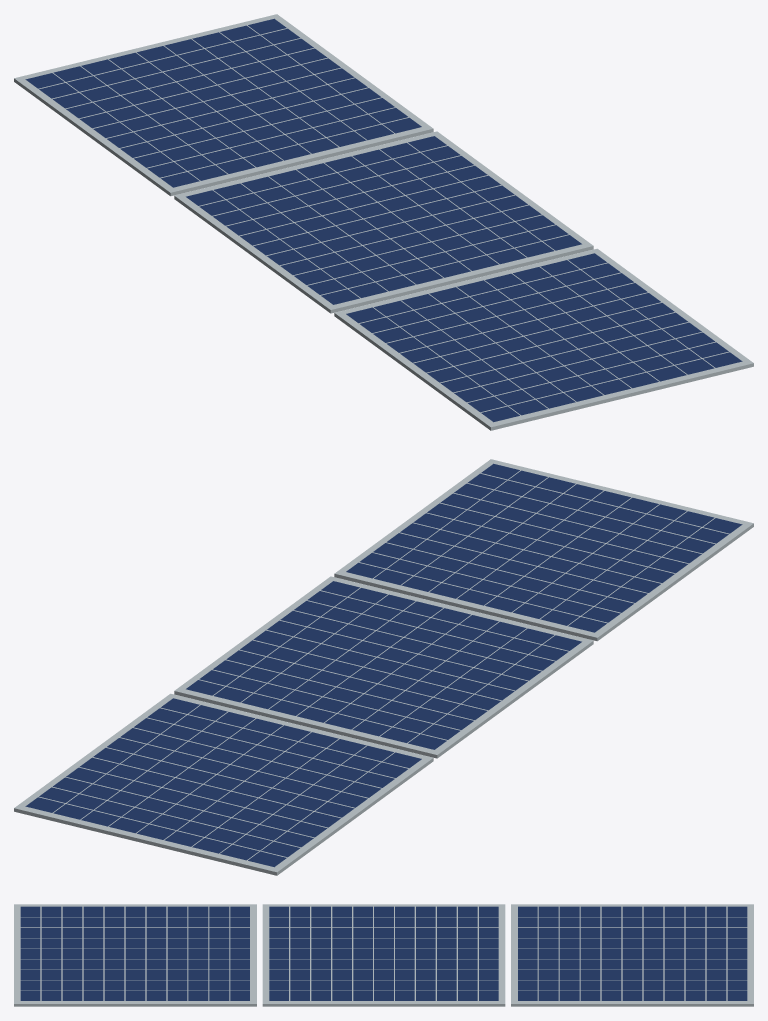
File: orion_esm.wing_02.panel_01.glb
3 renders of one model, top to bottom at view 1: azimuth 30°, elevation 25°; view 2: azimuth 150°, elevation 25°; view 3: azimuth 270°, elevation 25°, orthographic. The views are drawn at different scales.
Visible parts, largest first — view 1: orion_esm.wing_02.panel_01.panel_02.panel_03.cells.mesh_Indi, orion_esm.wing_02.panel_01.cells.mesh_Indigo_solar_cells, orion_esm.wing_02.panel_01.panel_02.cells.mesh_Indigo_solar_, orion_esm.wing_02.panel_01.panel_02.cells.mesh_Satin_aluminu, orion_esm.wing_02.panel_01.cells.mesh_Satin_aluminum, orion_esm.wing_02.panel_01.panel_02.panel_03.cells.mesh_Sati; view 2: orion_esm.wing_02.panel_01.cells.mesh_Indigo_solar_cells, orion_esm.wing_02.panel_01.panel_02.panel_03.cells.mesh_Indi, orion_esm.wing_02.panel_01.panel_02.cells.mesh_Indigo_solar_, orion_esm.wing_02.panel_01.panel_02.cells.mesh_Satin_aluminu, orion_esm.wing_02.panel_01.panel_02.panel_03.cells.mesh_Sati, orion_esm.wing_02.panel_01.cells.mesh_Satin_aluminum; view 3: orion_esm.wing_02.panel_01.cells.mesh_Indigo_solar_cells, orion_esm.wing_02.panel_01.panel_02.panel_03.cells.mesh_Indi, orion_esm.wing_02.panel_01.panel_02.cells.mesh_Indigo_solar_, orion_esm.wing_02.panel_01.panel_02.cells.mesh_Satin_aluminu, orion_esm.wing_02.panel_01.cells.mesh_Satin_aluminum, orion_esm.wing_02.panel_01.panel_02.panel_03.cells.mesh_Sati.
Boxes of the visible parts, x1,y1,x2,y2 form: orion_esm.wing_02.panel_01.panel_02.panel_03.cells.mesh_Indi: [346, 253, 742, 422]; orion_esm.wing_02.panel_01.cells.mesh_Indigo_solar_cells: [25, 18, 421, 187]; orion_esm.wing_02.panel_01.panel_02.cells.mesh_Indigo_solar_: [186, 136, 581, 304]; orion_esm.wing_02.panel_01.panel_02.cells.mesh_Satin_aluminu: [174, 131, 593, 313]; orion_esm.wing_02.panel_01.cells.mesh_Satin_aluminum: [14, 14, 433, 196]; orion_esm.wing_02.panel_01.panel_02.panel_03.cells.mesh_Sati: [334, 248, 753, 430]; orion_esm.wing_02.panel_01.cells.mesh_Indigo_solar_cells: [25, 698, 421, 867]; orion_esm.wing_02.panel_01.panel_02.panel_03.cells.mesh_Indi: [346, 463, 742, 632]; orion_esm.wing_02.panel_01.panel_02.cells.mesh_Indigo_solar_: [186, 581, 581, 749]; orion_esm.wing_02.panel_01.panel_02.cells.mesh_Satin_aluminu: [174, 576, 593, 758]; orion_esm.wing_02.panel_01.panel_02.panel_03.cells.mesh_Sati: [334, 459, 753, 641]; orion_esm.wing_02.panel_01.cells.mesh_Satin_aluminum: [14, 693, 433, 875]; orion_esm.wing_02.panel_01.cells.mesh_Indigo_solar_cells: [518, 906, 747, 1000]; orion_esm.wing_02.panel_01.panel_02.panel_03.cells.mesh_Indi: [20, 906, 249, 1000]; orion_esm.wing_02.panel_01.panel_02.cells.mesh_Indigo_solar_: [269, 906, 498, 1000]; orion_esm.wing_02.panel_01.panel_02.cells.mesh_Satin_aluminu: [262, 904, 505, 1006]; orion_esm.wing_02.panel_01.cells.mesh_Satin_aluminum: [511, 904, 753, 1006]; orion_esm.wing_02.panel_01.panel_02.panel_03.cells.mesh_Sati: [14, 904, 256, 1006].
Bounding box in the file's own units: 1.65 × 0.0225 × 5.18.
